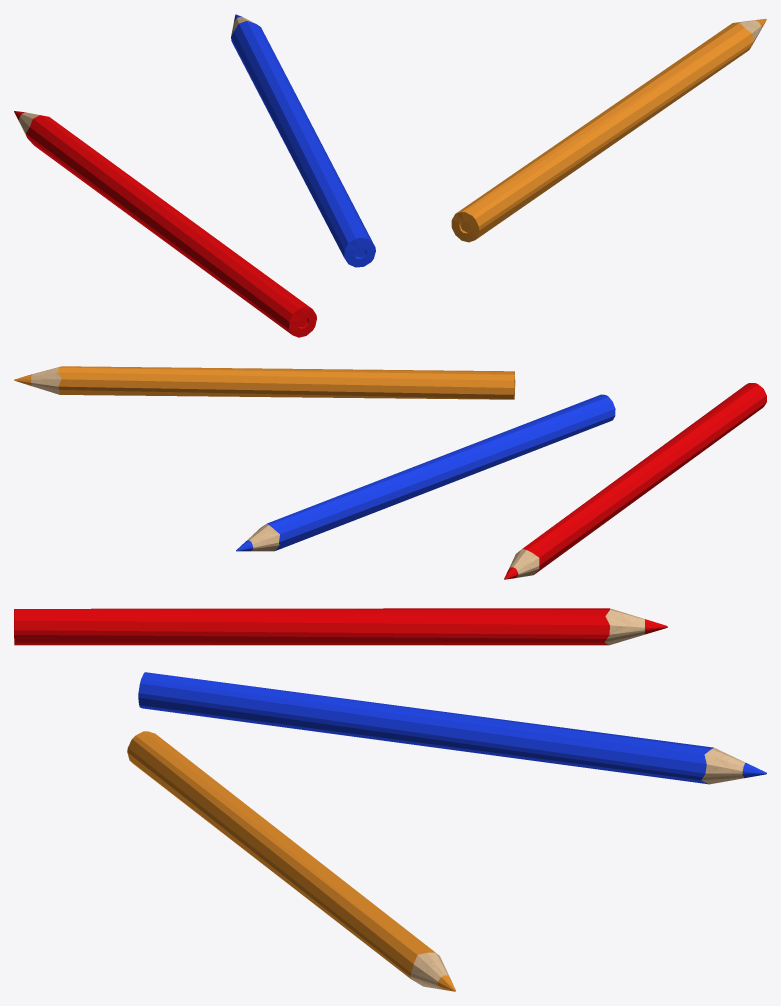
The model's file is Pencils.FBX.
The picture shows the model from 3 angles, top to bottom: view 1: azimuth 30°, elevation 25°; view 2: azimuth 150°, elevation 25°; view 3: azimuth 270°, elevation 25°; orthographic projection. The views are drawn at different scales.
Parts seen in each view (by area): view 1: pencil 3, pencil 1, pencil 2; view 2: pencil 3, pencil 2, pencil 1; view 3: pencil 1, pencil 2, pencil 3.
Boxes of the visible parts, bbox=[...] form: pencil 3: bbox=[451, 18, 766, 242]; pencil 1: bbox=[14, 111, 316, 337]; pencil 2: bbox=[231, 14, 375, 267]; pencil 3: bbox=[14, 366, 515, 399]; pencil 2: bbox=[236, 394, 615, 551]; pencil 1: bbox=[504, 383, 766, 579]; pencil 1: bbox=[14, 608, 667, 645]; pencil 2: bbox=[138, 672, 766, 784]; pencil 3: bbox=[127, 731, 455, 991].
Bounding box in the file's own units: 188 × 161 × 7.86.
